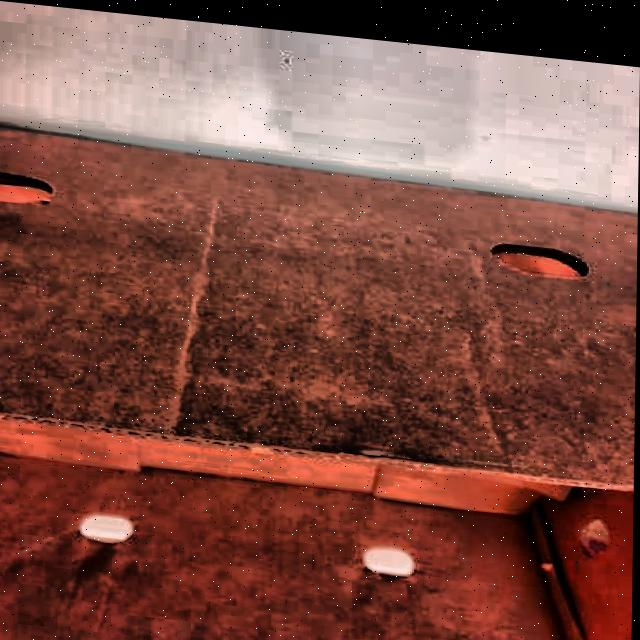cardboard: (0, 122, 638, 504)
